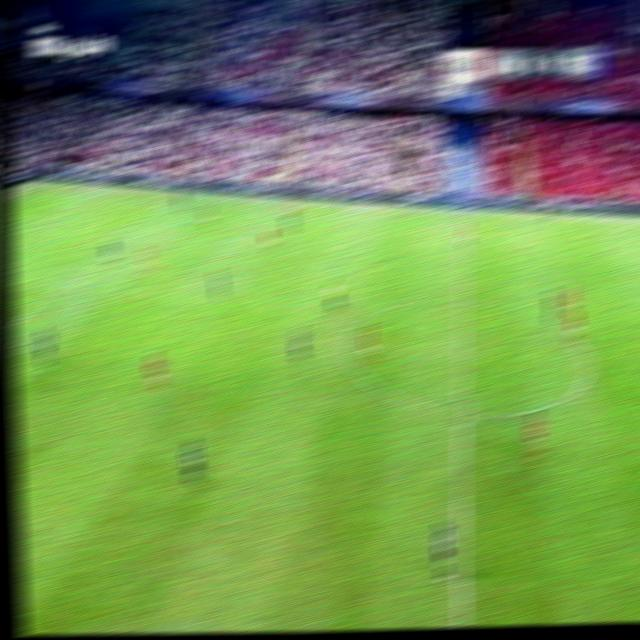bigarea_top_inner: (115, 223, 131, 236)
corner: (30, 179, 50, 188)
halfcircle_bottom: (449, 398, 476, 423)
halfcircle_top: (448, 290, 477, 311)
midline_top_intersection: (452, 206, 472, 220)
top_arc_area_intersection: (60, 271, 78, 283)
